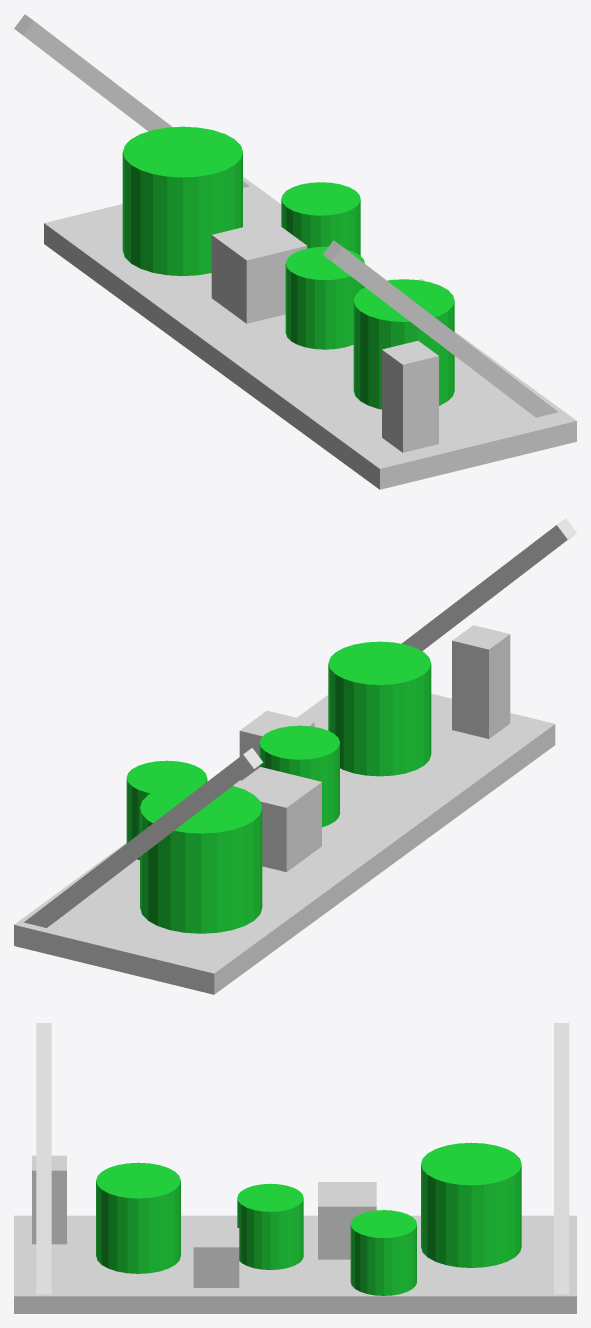
The model's file is mdl_shelf.fbx.
3 views of the same model, one above another, from view 1: azimuth 30°, elevation 25°; view 2: azimuth 150°, elevation 25°; view 3: azimuth 270°, elevation 25° (orthographic). The views are drawn at different scales.
Parts seen in each view (by area): view 1: Cube.004; view 2: Cube.004; view 3: Cube.004.
Boxes of the visible parts, left/top/right/bottom form: Cube.004: left=14, top=14, right=576, bottom=489; Cube.004: left=14, top=518, right=576, bottom=994; Cube.004: left=14, top=1023, right=576, bottom=1313.
Bounding box in the file's own units: 1.18 × 1.16 × 2.96.
